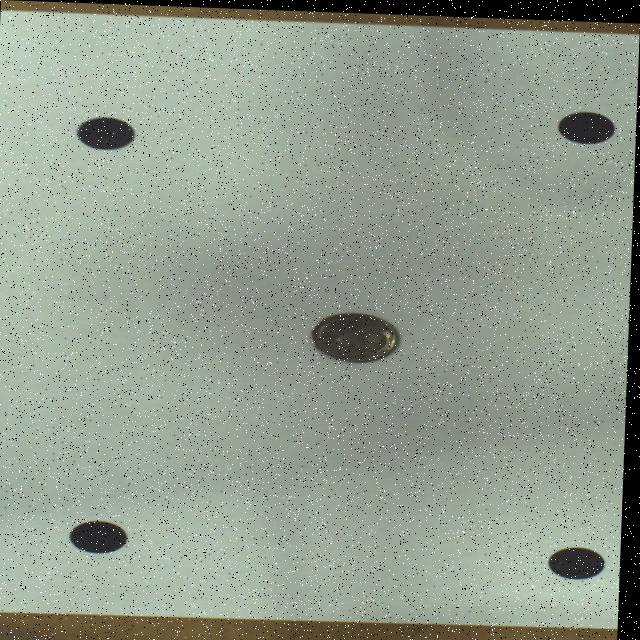head5bath: (314, 310, 402, 359)
space: (552, 543, 609, 575), (73, 521, 130, 553), (558, 108, 615, 139)
